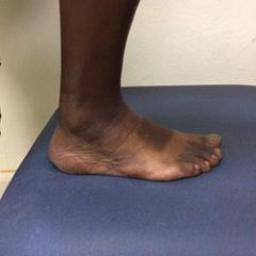Lateral View -Right Foot-: (45, 76, 226, 194)
